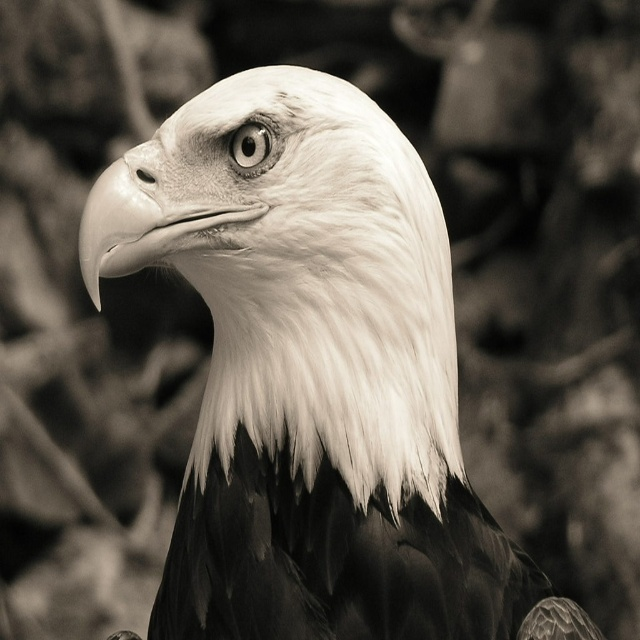Eagle: (76, 65, 606, 639)
